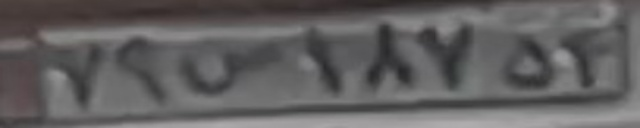1: (303, 23, 340, 93)
4: (561, 28, 612, 88)
5: (501, 36, 550, 86)
7: (48, 41, 104, 112), (417, 21, 474, 89)
8: (361, 22, 408, 86)
9: (112, 36, 167, 104)
saat: (183, 39, 283, 98)
